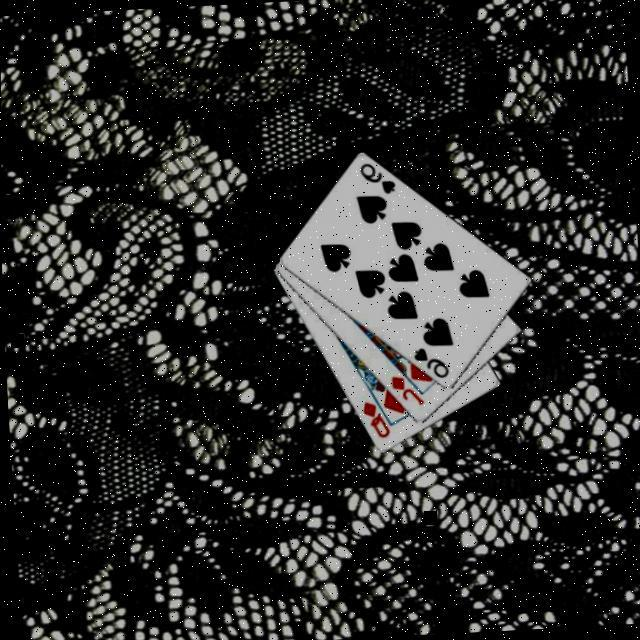9S: (354, 158, 396, 198), (407, 343, 450, 382)
JD: (386, 371, 426, 409)
QD: (356, 396, 390, 441)
